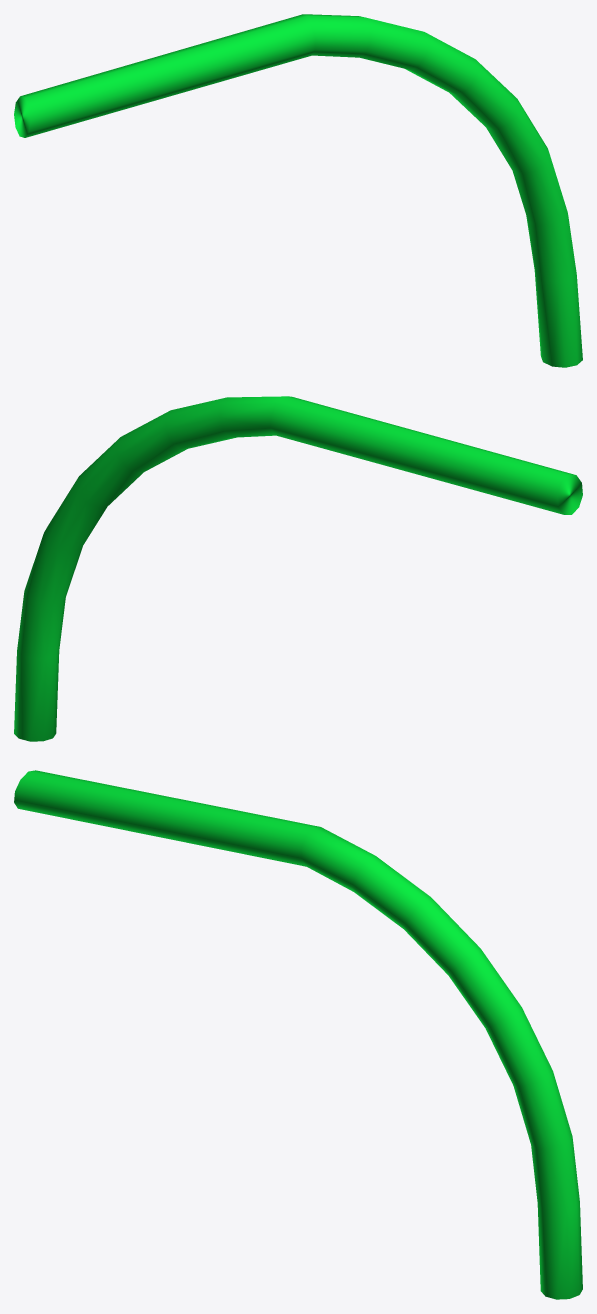
Rendered from Pipe_Exit.fbx.
3 views of the same model, one above another, from view 1: azimuth 30°, elevation 25°; view 2: azimuth 150°, elevation 25°; view 3: azimuth 330°, elevation 25° (orthographic).
Parts seen in each view (by area): view 1: Pipe_Exit; view 2: Pipe_Exit; view 3: Pipe_Exit.
Part boxes in pixels (<box>): Pipe_Exit: <box>14,14,582,367</box>; Pipe_Exit: <box>14,396,582,741</box>; Pipe_Exit: <box>14,770,582,1299</box>.
Bounding box in the file's own units: 3.6 × 2.47 × 0.2551.
